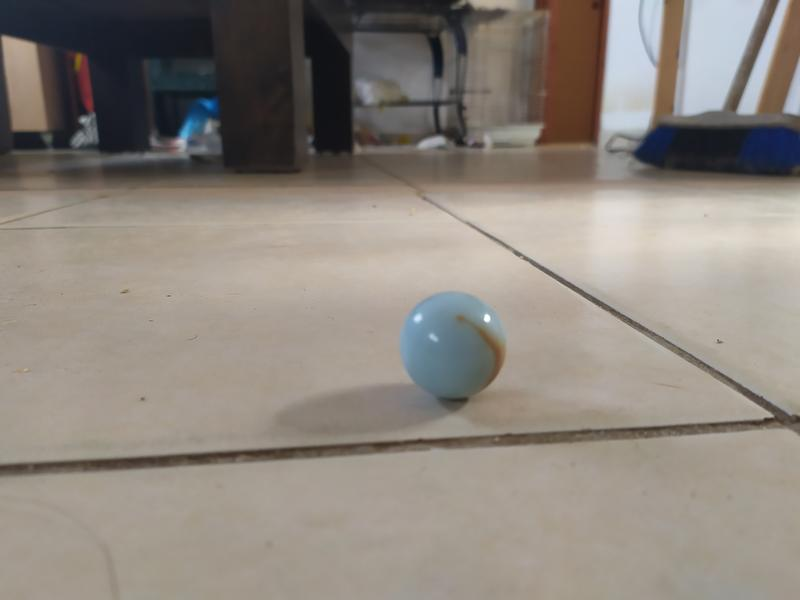Warning: (394, 287, 512, 406)
